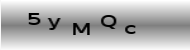5: (26, 12, 41, 27)
M: (71, 21, 91, 37)
Q: (99, 13, 116, 30)
c: (123, 23, 136, 35)
y: (46, 16, 61, 31)
